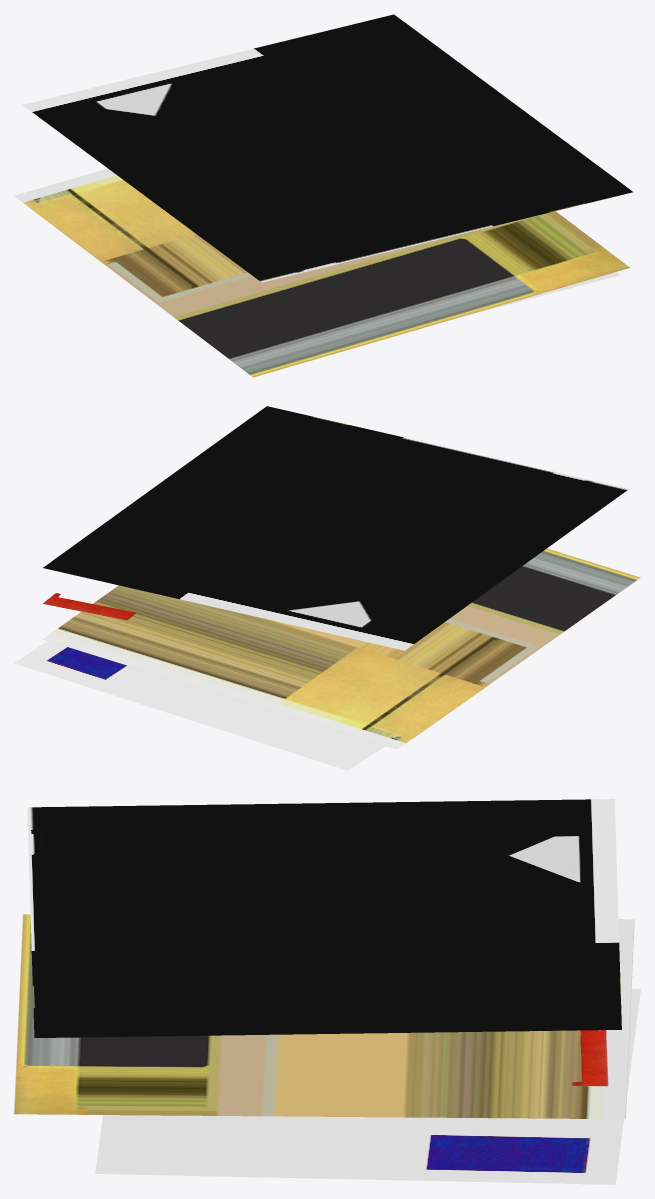
File: mondrian.dae
3 renders of one model, top to bottom at view 1: azimuth 30°, elevation 25°; view 2: azimuth 150°, elevation 25°; view 3: azimuth 270°, elevation 25°, orthographic. The views are drawn at different scales.
Visible parts, largest first — view 1: Plane_006, Plane_002; view 2: Plane_006, Plane_002, Plane_003, Plane_001; view 3: Plane_006, Plane_002, Plane_003, Plane_001.
Boxes of the visible parts, box(x1,y1,x2,y2) form: Plane_006: box(23, 14, 633, 282); Plane_002: box(14, 168, 629, 377); Plane_006: box(43, 406, 628, 650); Plane_002: box(43, 548, 640, 749); Plane_003: box(14, 641, 385, 770); Plane_001: box(42, 593, 135, 620); Plane_006: box(27, 799, 621, 1037); Plane_002: box(14, 914, 634, 1119); Plane_003: box(95, 989, 640, 1184); Plane_001: box(572, 1030, 608, 1086).
Bounding box in the file's own units: 9.33 × 9.85 × 2.78.
Materials: 4 (4 with a texture image).
